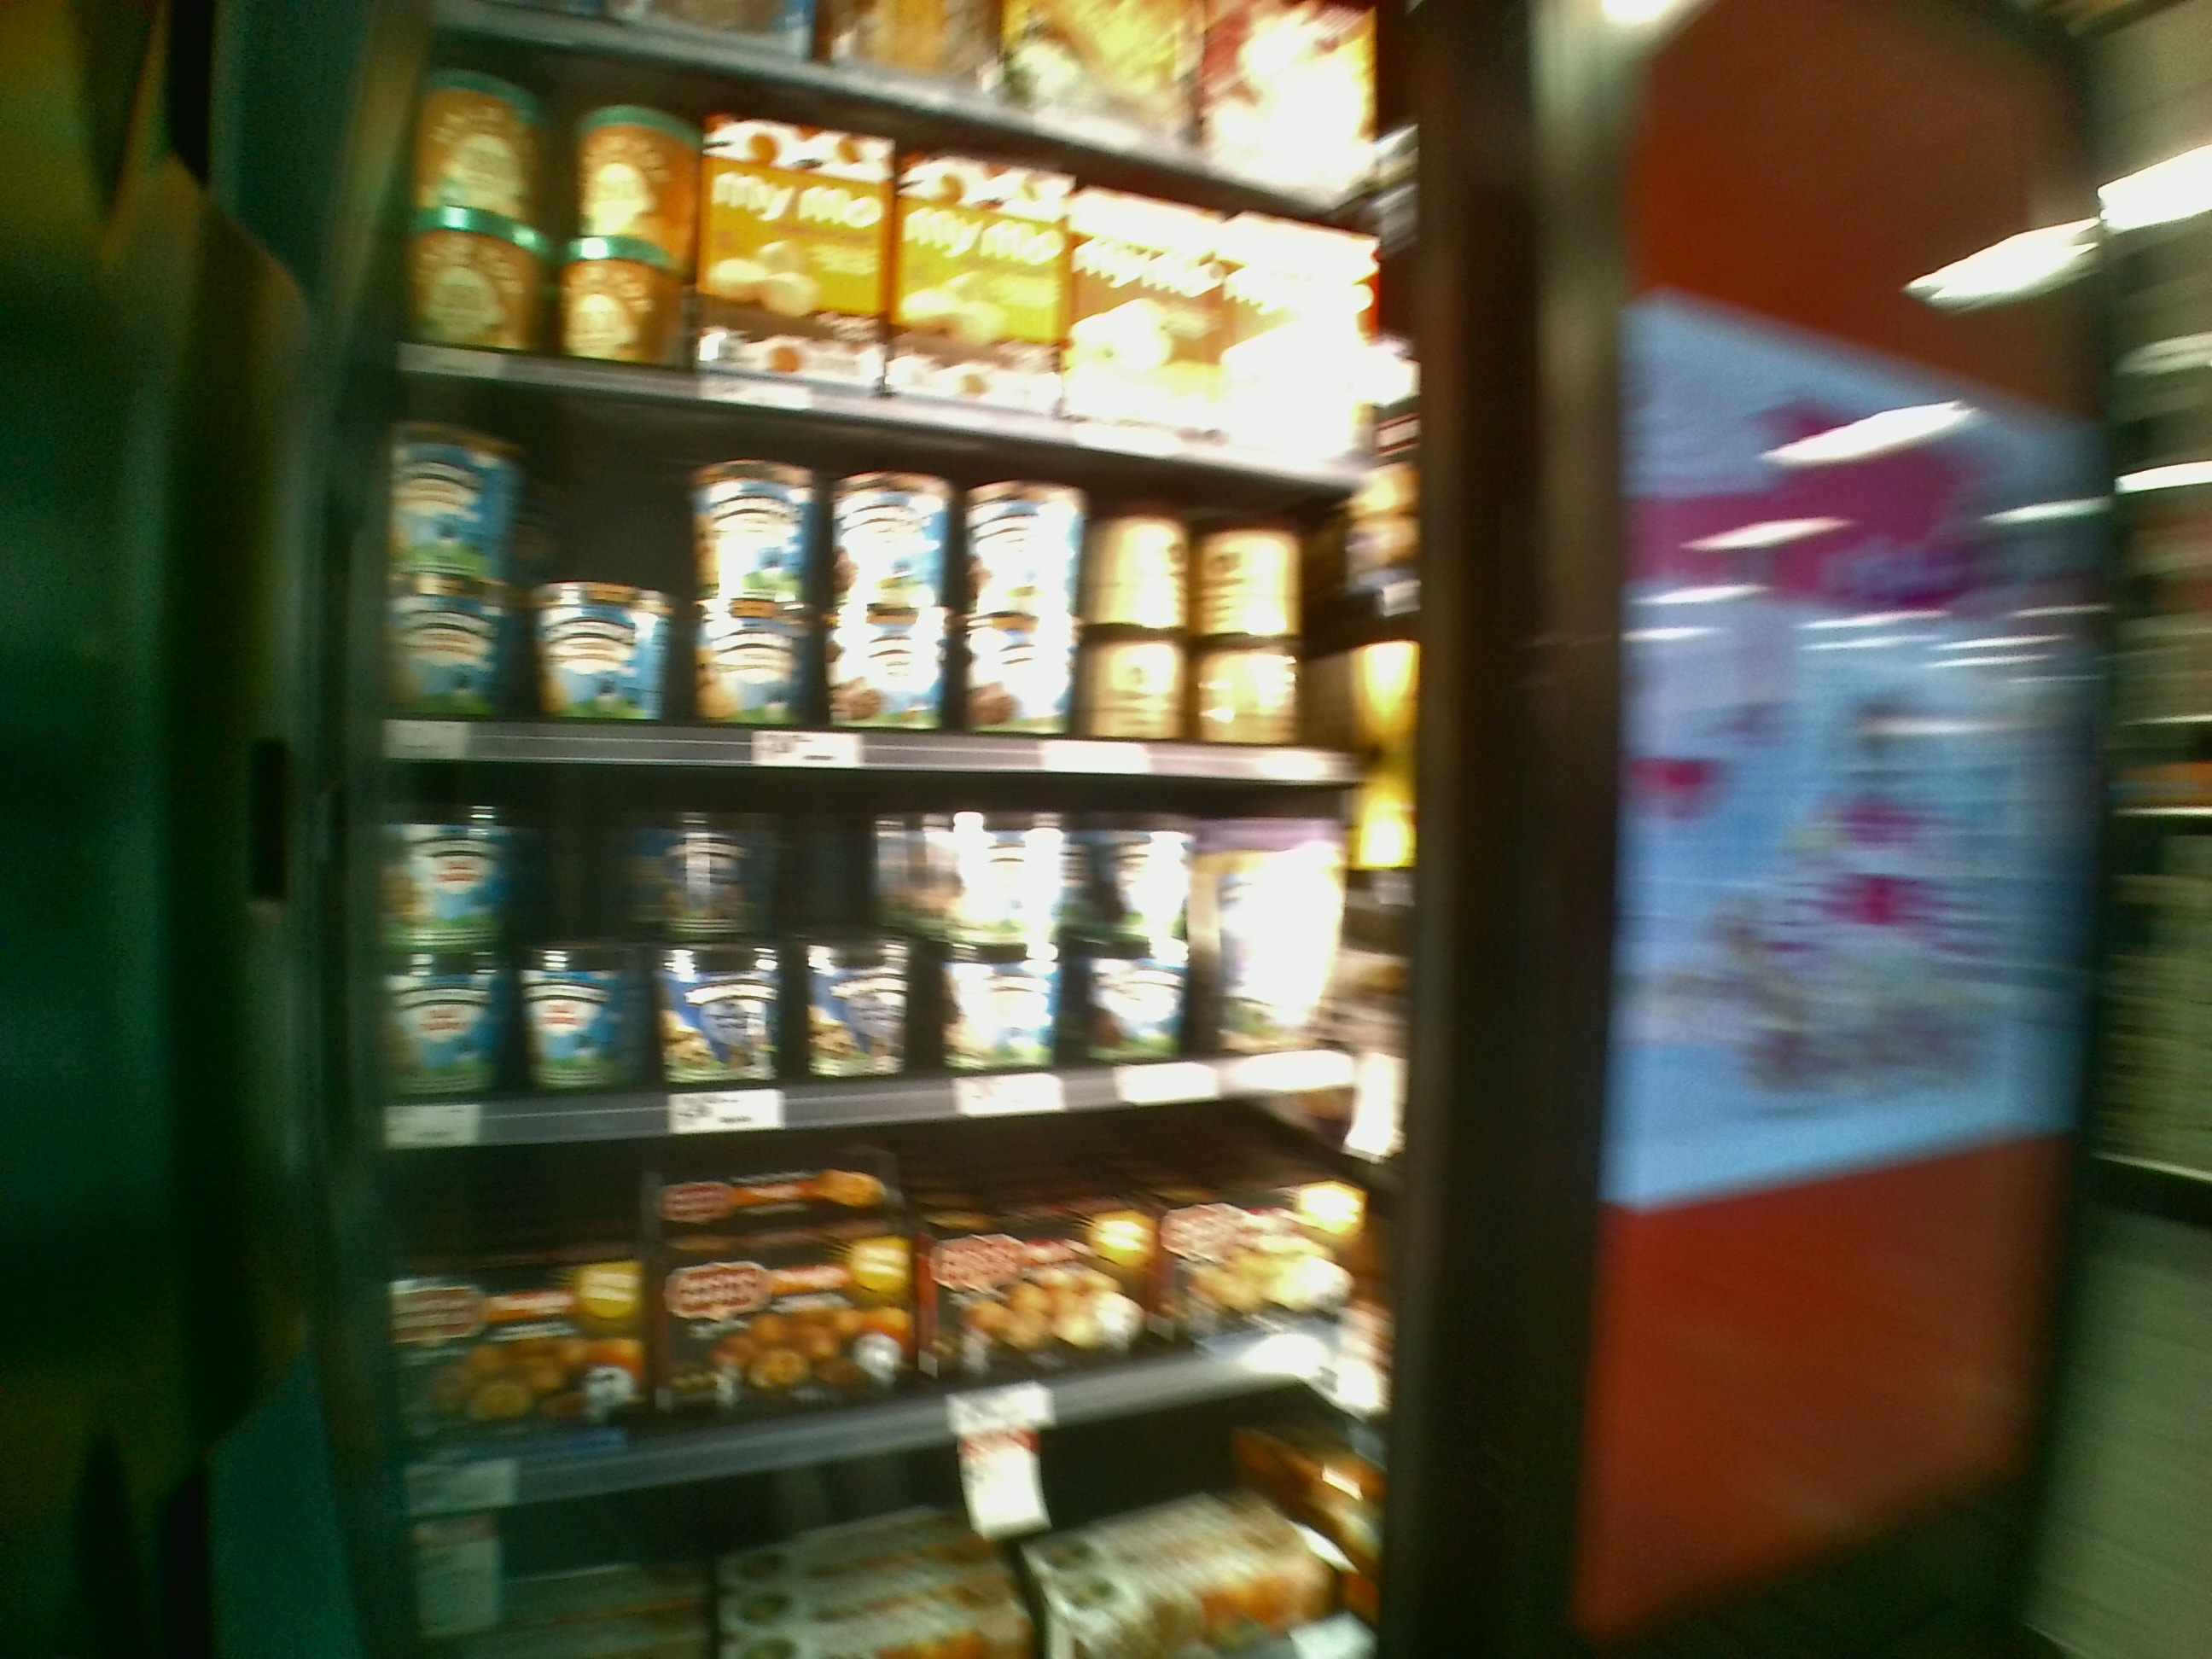shelf: (381, 352, 1399, 786), (354, 735, 1426, 1129), (354, 1112, 1390, 1471)
